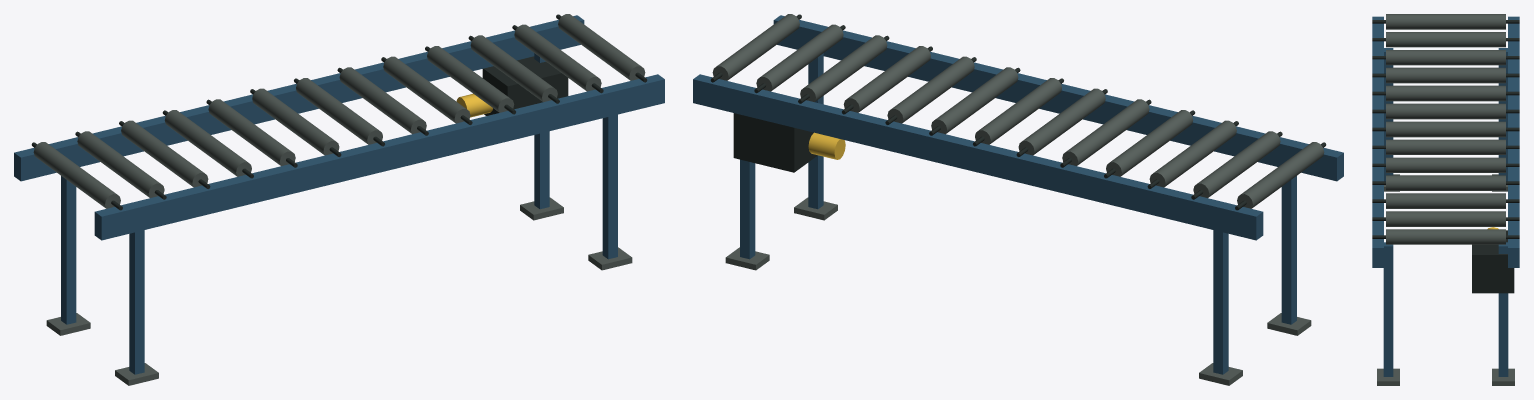
Rendered from CV-ROLLER-2600_2.60x0.85x0.70m.glb.
3 views of the same model, side by side, from view 1: azimuth 30°, elevation 25°; view 2: azimuth 150°, elevation 25°; view 3: azimuth 270°, elevation 25° (orthographic). The views are drawn at different scales.
Visible parts, largest first — view 1: SideRail_1, SideRail_-1, SupportLeg_-1_-1, SupportLeg_-1_1, SupportLeg_1_1, DriveMotor, ConveyorRoller_6, ConveyorRoller_9, ConveyorRoller_7, ConveyorRoller_8, ConveyorRoller_10, ConveyorRoller_12 (+12 smaller); view 2: SideRail_-1, SideRail_1, DriveMotor, SupportLeg_-1_1, SupportLeg_-1_-1, ConveyorRoller_6, ConveyorRoller_9, ConveyorRoller_7, ConveyorRoller_8, ConveyorRoller_10, ConveyorRoller_12, ConveyorRoller_4 (+13 smaller); view 3: SideRail_-1, SideRail_1, ConveyorRoller_4, ConveyorRoller_5, ConveyorRoller_6, ConveyorRoller_7, ConveyorRoller_1, ConveyorRoller_2, ConveyorRoller_3, ConveyorRoller_8, ConveyorRoller_9, ConveyorRoller_10 (+10 smaller).
Part boxes in pixels (bbox=[...]): SideRail_1: bbox=[94, 74, 664, 240]; SideRail_-1: bbox=[14, 15, 584, 181]; SupportLeg_-1_-1: bbox=[61, 176, 76, 324]; SupportLeg_-1_1: bbox=[129, 230, 144, 374]; SupportLeg_1_1: bbox=[602, 114, 617, 259]; DriveMotor: bbox=[482, 56, 568, 115]; ConveyorRoller_6: bbox=[252, 88, 339, 155]; ConveyorRoller_9: bbox=[383, 56, 470, 123]; ConveyorRoller_7: bbox=[296, 78, 382, 144]; ConveyorRoller_8: bbox=[339, 67, 426, 134]; ConveyorRoller_10: bbox=[427, 46, 514, 112]; ConveyorRoller_12: bbox=[514, 24, 601, 91]; SideRail_-1: bbox=[693, 74, 1263, 240]; SideRail_1: bbox=[773, 15, 1343, 181]; DriveMotor: bbox=[733, 113, 817, 172]; SupportLeg_-1_1: bbox=[1281, 176, 1296, 324]; SupportLeg_-1_-1: bbox=[1213, 230, 1228, 374]; ConveyorRoller_6: bbox=[1018, 88, 1105, 155]; ConveyorRoller_9: bbox=[887, 56, 974, 123]; ConveyorRoller_7: bbox=[975, 78, 1061, 144]; ConveyorRoller_8: bbox=[931, 67, 1018, 134]; ConveyorRoller_10: bbox=[843, 46, 930, 112]; ConveyorRoller_12: bbox=[756, 24, 843, 91]; ConveyorRoller_4: bbox=[1106, 110, 1193, 176]; SideRail_-1: bbox=[1508, 16, 1519, 267]; SideRail_1: bbox=[1372, 16, 1383, 267]; ConveyorRoller_4: bbox=[1386, 67, 1505, 83]; ConveyorRoller_5: bbox=[1386, 85, 1505, 101]; ConveyorRoller_6: bbox=[1386, 103, 1505, 119]; ConveyorRoller_7: bbox=[1386, 121, 1505, 137]; ConveyorRoller_1: bbox=[1386, 14, 1505, 29]; ConveyorRoller_2: bbox=[1386, 32, 1505, 47]; ConveyorRoller_3: bbox=[1386, 50, 1505, 65]; ConveyorRoller_8: bbox=[1386, 139, 1505, 154]; ConveyorRoller_9: bbox=[1386, 157, 1505, 172]; ConveyorRoller_10: bbox=[1386, 175, 1505, 190].
Size of the model in its own units: 2.6 by 0.84 by 0.7.
